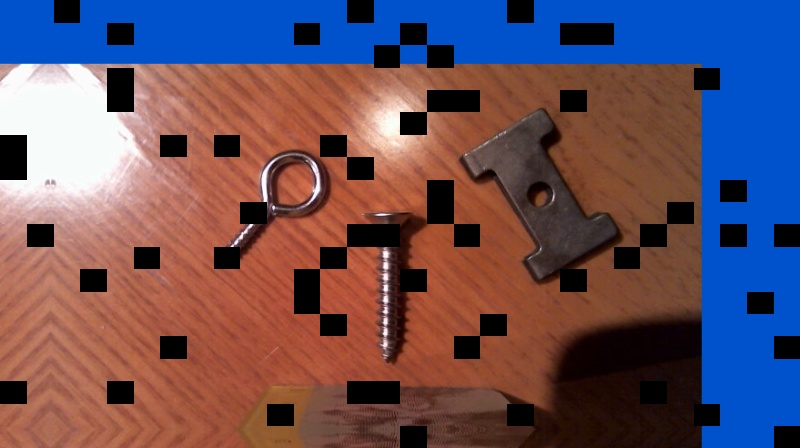O001: (216, 147, 330, 268)
O002: (459, 105, 624, 284)
S001: (359, 204, 415, 364)
